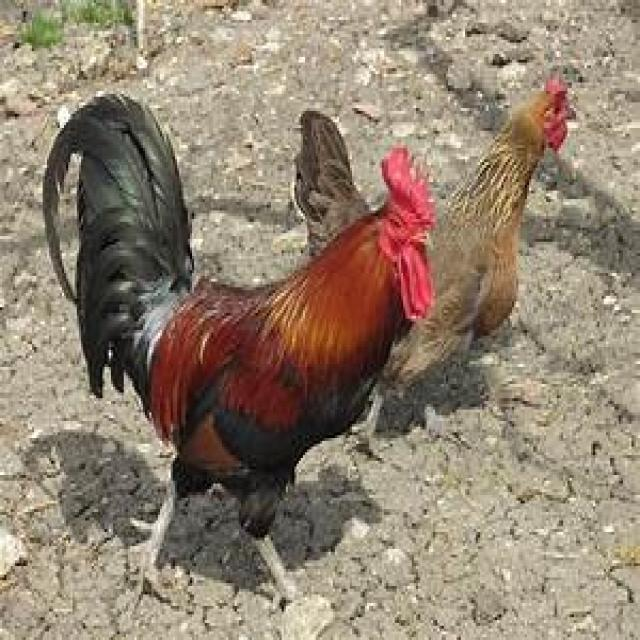hen: (41, 94, 439, 594), (375, 80, 578, 435), (292, 111, 371, 256)
